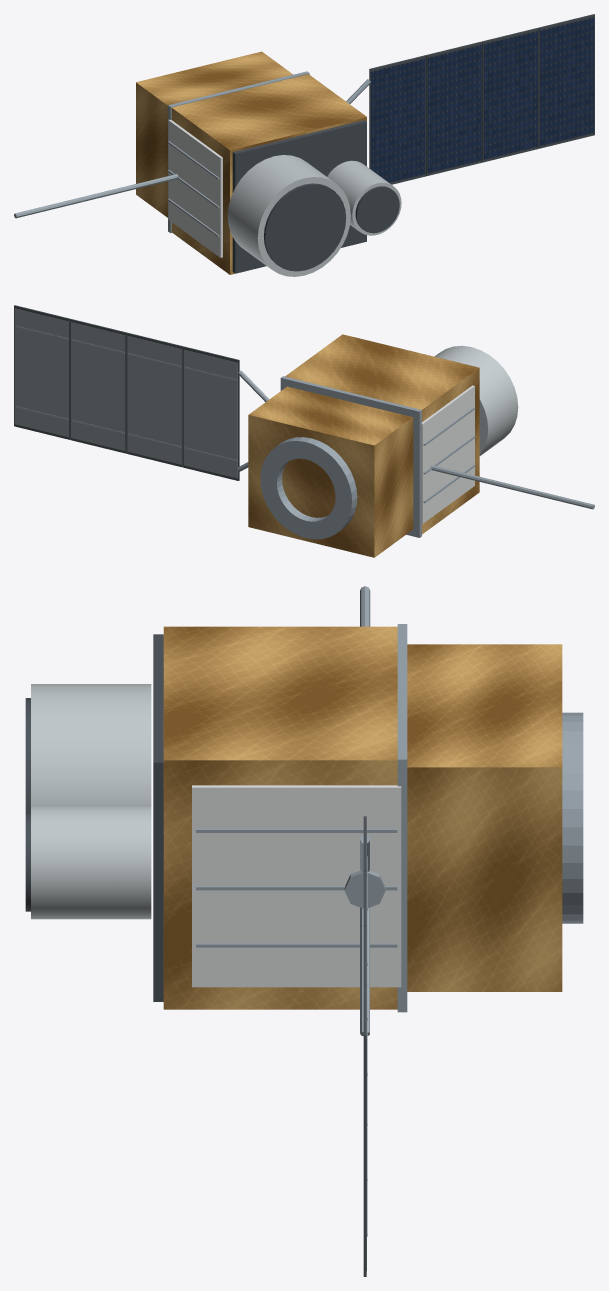
3 renders of one model, top to bottom at view 1: azimuth 30°, elevation 25°; view 2: azimuth 150°, elevation 25°; view 3: azimuth 270°, elevation 25°, orthographic. The views are drawn at different scales.
Visible parts, largest first — view 1: Solar cell panel (×4), Payload module, Optical instrument housing (×2), Service module, Telescope aperture (×2), Radiator face, Earth-facing deck, Solar panel frame (×4), Outboard boom, Module interface; view 2: Rear array substrate (×4), Service module, Payload module, Launch adapter ring, Radiator face, Optical instrument housing, Solar panel frame (×4), Module interface, Outboard boom; view 3: Service module, Payload module, Radiator face, Optical instrument housing (×2), Launch adapter ring, Earth-facing deck, Module interface, Radiator seam (×2), Solar panel frame, Array drive, Array yoke.
Part boxes in pixels (x1,y1,x2,y2): Solar cell panel (×4): [371, 17, 594, 182]; Payload module: [171, 74, 366, 274]; Optical instrument housing (×2): [227, 155, 401, 276]; Service module: [136, 51, 292, 217]; Telescope aperture (×2): [264, 183, 399, 271]; Radiator face: [168, 119, 222, 257]; Earth-facing deck: [232, 120, 366, 273]; Solar panel frame (×4): [369, 14, 594, 184]; Outboard boom: [14, 174, 178, 218]; Module interface: [168, 71, 309, 233]; Rear array substrate (×4): [14, 308, 237, 478]; Service module: [248, 386, 413, 557]; Payload module: [285, 334, 479, 534]; Launch adapter ring: [260, 437, 357, 539]; Radiator face: [421, 385, 474, 523]; Optical instrument housing: [434, 345, 518, 455]; Solar panel frame (×4): [14, 305, 239, 480]; Module interface: [280, 376, 421, 537]; Outboard boom: [430, 465, 594, 509]; Service module: [407, 644, 562, 991]; Payload module: [163, 626, 397, 1009]; Radiator face: [192, 785, 401, 987]; Optical instrument housing (×2): [31, 684, 151, 919]; Launch adapter ring: [562, 712, 583, 923]; Earth-facing deck: [153, 634, 163, 1001]; Module interface: [397, 624, 407, 1012]; Radiator seam (×2): [196, 828, 397, 947]; Solar panel frame: [363, 981, 366, 1276]; Array drive: [344, 870, 385, 908]; Array yoke: [360, 907, 369, 1035].
Bounding box in the file's own units: 13.95 × 2.91 × 5.82.
Materials: 7 (2 with a texture image).
